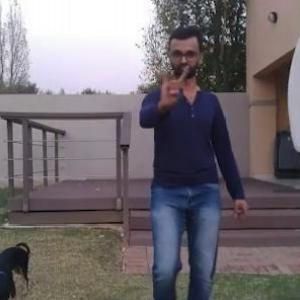takeoff-hand: (152, 59, 193, 110)
